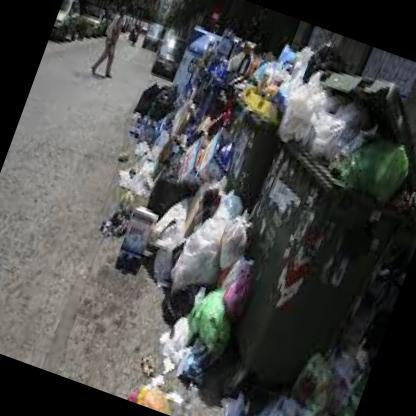Garbage: (136, 223, 262, 398), (100, 160, 249, 302), (107, 79, 236, 223), (261, 76, 415, 192), (241, 319, 375, 415), (235, 26, 330, 119)
